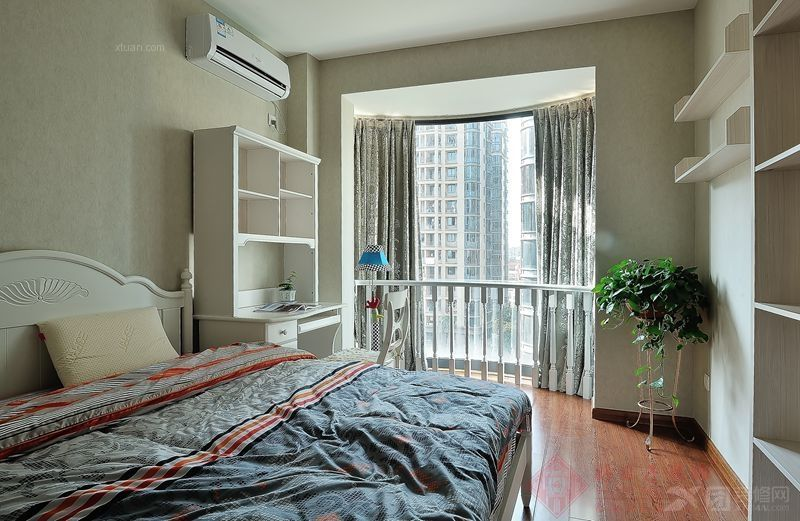床: (0, 341, 560, 521)
枕头: (34, 304, 186, 388)
灯: (352, 244, 392, 346)
